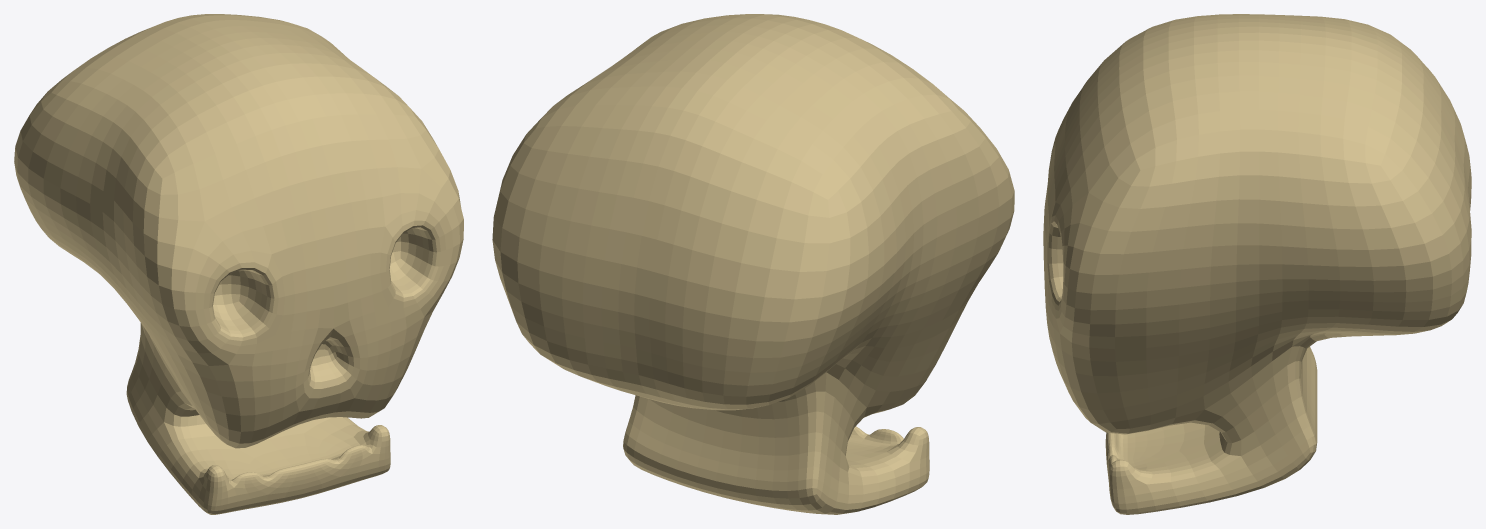
File: CherepMax 1.fbx
3 renders of one model, left to right at view 1: azimuth 30°, elevation 25°; view 2: azimuth 150°, elevation 25°; view 3: azimuth 270°, elevation 25°, orthographic. The views are drawn at different scales.
Visible parts, largest first — view 1: Cube.004; view 2: Cube.004; view 3: Cube.004.
Boxes of the visible parts, left/top/right/bottom form: Cube.004: left=14, top=14, right=463, bottom=514; Cube.004: left=492, top=14, right=1014, bottom=514; Cube.004: left=1043, top=14, right=1471, bottom=514.
Bounding box in the file's own units: 20.82 × 26.41 × 23.25.
